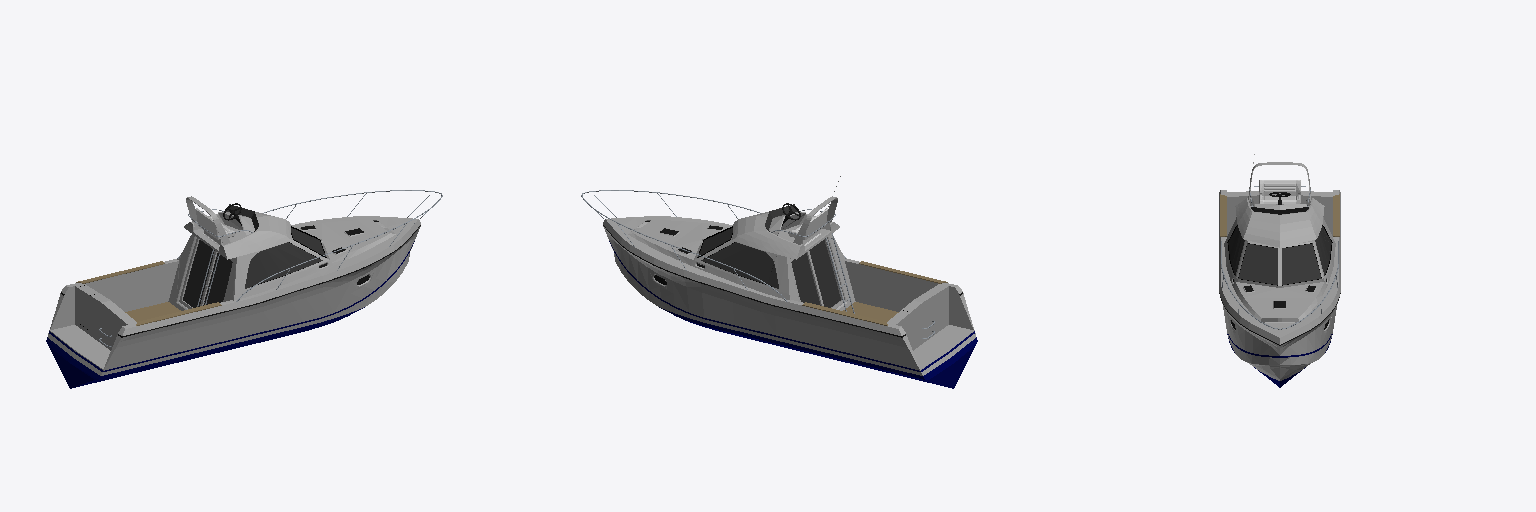
File: fastboatobj.obj
The picture shows the model from 3 angles: view 1: azimuth 30°, elevation 25°; view 2: azimuth 150°, elevation 25°; view 3: azimuth 270°, elevation 25°; orthographic projection.
Parts seen in each view (by area): view 1: WHITE_PLST, GLASS, BLUE_PLAST, boat_wood, CHROME, BLACK_PLAS; view 2: WHITE_PLST, GLASS, BLUE_PLAST, boat_wood, CHROME, BLACK_PLAS; view 3: WHITE_PLST, GLASS, white_mate, boat_wood.
Boxes of the visible parts, <box> form: WHITE_PLST: <box>48,196,420,375</box>; GLASS: <box>183,204,325,307</box>; BLUE_PLAST: <box>46,241,414,388</box>; boat_wood: <box>76,261,221,325</box>; CHROME: <box>99,190,442,346</box>; BLACK_PLAS: <box>61,203,420,337</box>; WHITE_PLST: <box>603,176,975,375</box>; GLASS: <box>698,204,840,307</box>; BLUE_PLAST: <box>609,241,977,388</box>; boat_wood: <box>802,261,947,325</box>; CHROME: <box>581,190,934,338</box>; BLACK_PLAS: <box>603,203,962,337</box>; WHITE_PLST: <box>1219,154,1340,380</box>; GLASS: <box>1228,207,1331,284</box>; white_mate: <box>1259,180,1300,203</box>; boat_wood: <box>1220,194,1339,236</box>.
Bounding box in the file's own units: 1.31 × 0.5903 × 0.3751.